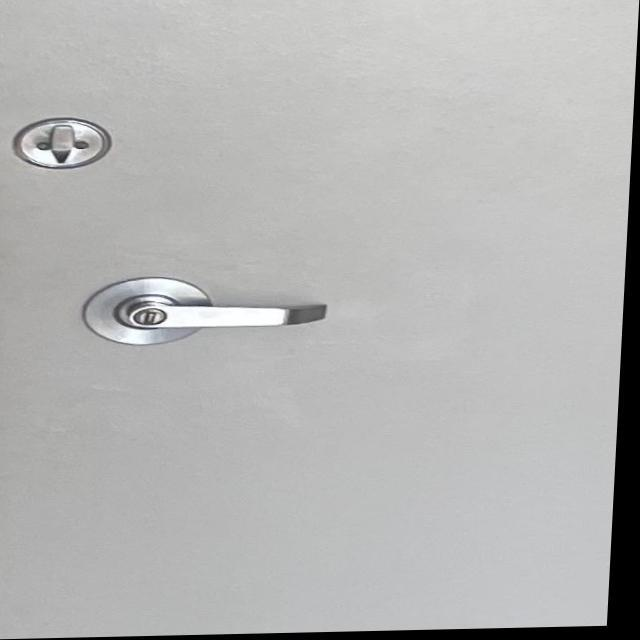door_handle: (78, 286, 349, 348)
